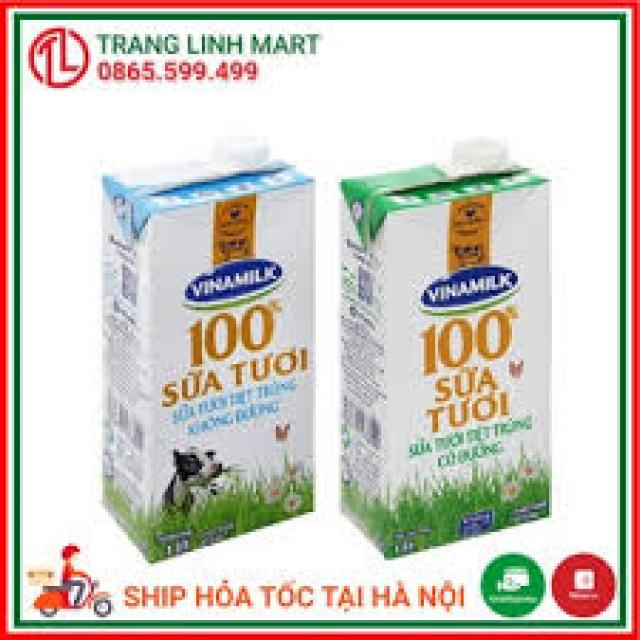non_white_jug: (80, 127, 324, 576), (336, 121, 554, 567)
